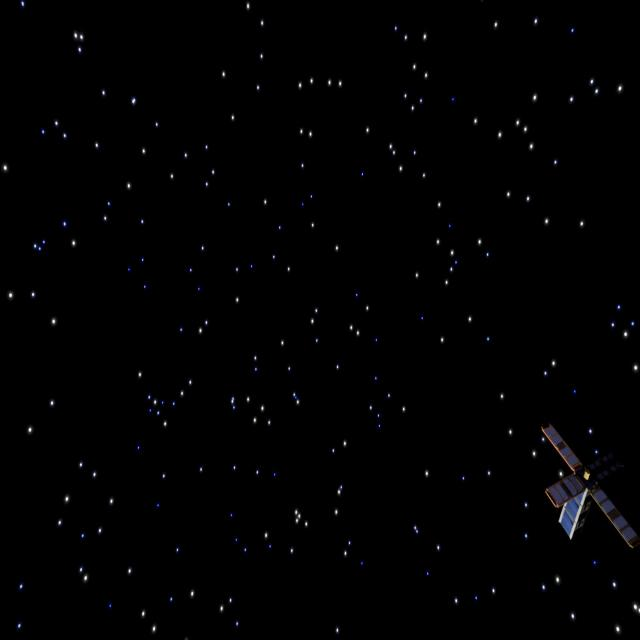medium_debris: (531, 421, 637, 551)
